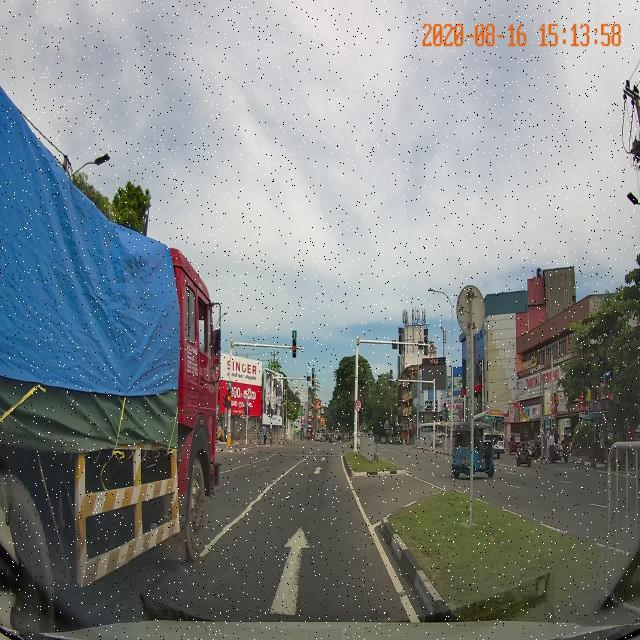forward: (130, 518, 424, 613)
